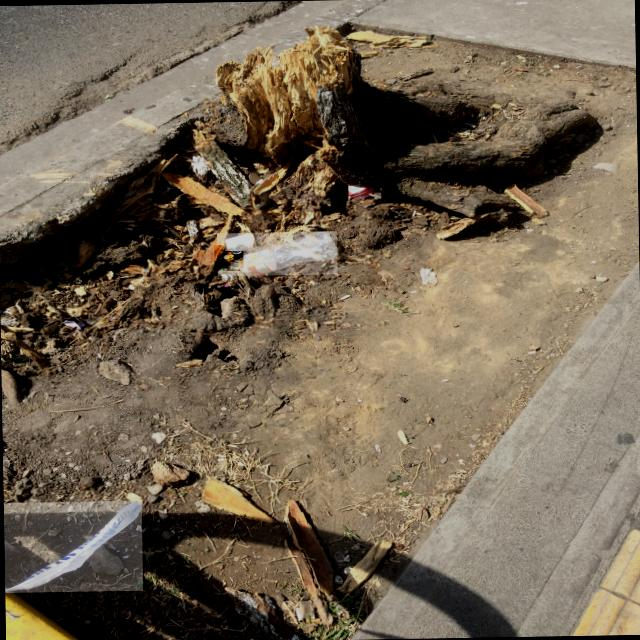Cigarette: (339, 295, 351, 301)
Clear plastic bottle: (218, 232, 337, 276)
Cup: (225, 234, 253, 251)
Food Carton: (348, 185, 374, 200)
Paper bag: (63, 317, 86, 331)
Plastic film: (6, 501, 141, 593), (215, 245, 243, 271)
Straw: (369, 193, 381, 198)
